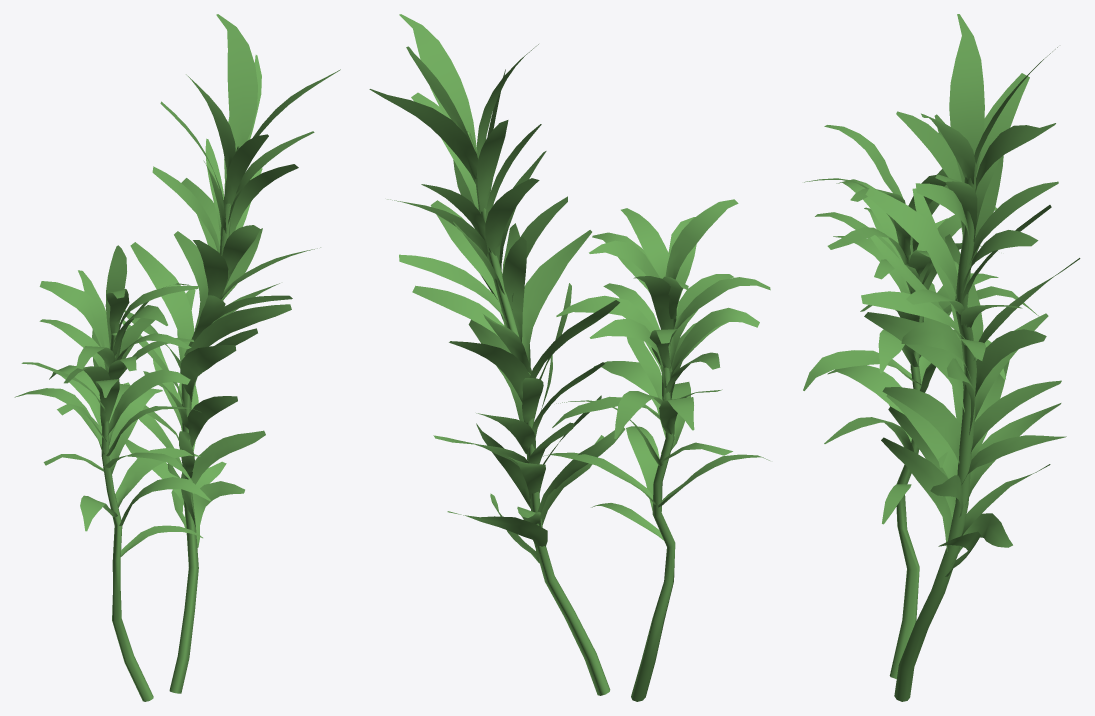
The model's file is SM_Dracaena_05.glb.
The picture shows the model from 3 angles, left to right: view 1: azimuth 30°, elevation 25°; view 2: azimuth 150°, elevation 25°; view 3: azimuth 270°, elevation 25°; orthographic projection. The views are drawn at different scales.
Parts seen in each view (by area): view 1: SM_Dracaena_05; view 2: SM_Dracaena_05; view 3: SM_Dracaena_05.
Part boxes in pixels (x1=…): SM_Dracaena_05: x1=14, y1=14, x2=340, y2=701; SM_Dracaena_05: x1=369, y1=14, x2=770, y2=701; SM_Dracaena_05: x1=803, y1=14, x2=1080, y2=701.
Size of what is drawn, in the model's own units: 10.19 by 19.34 by 6.8.
